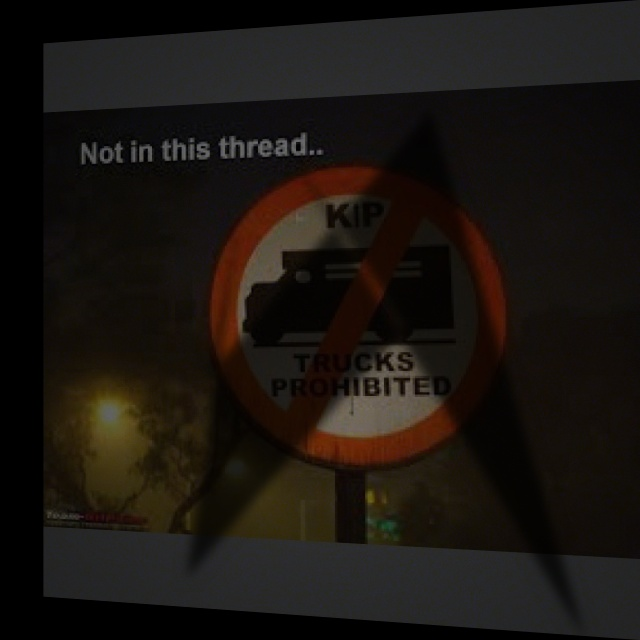Truck_Prohibited: (206, 159, 520, 477)
